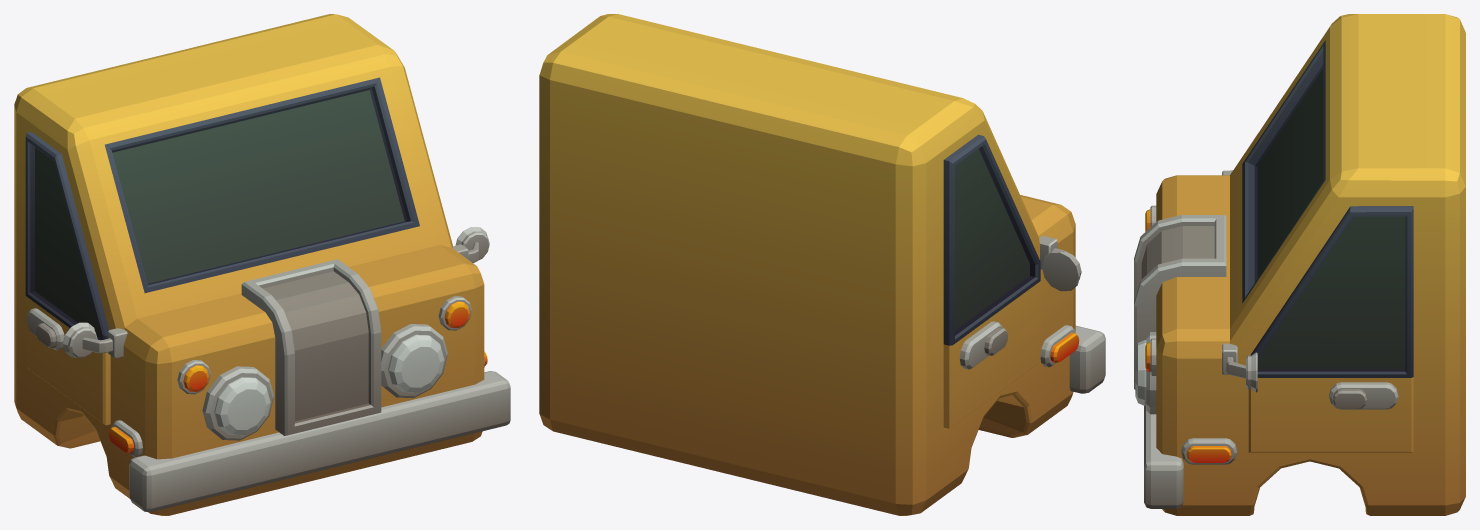
File: sp_build_prop_carfront_01.fbx
The picture shows the model from 3 angles, left to right: view 1: azimuth 30°, elevation 25°; view 2: azimuth 150°, elevation 25°; view 3: azimuth 270°, elevation 25°; orthographic projection. The views are drawn at different scales.
Visible parts, largest first — view 1: build_prop_carfront_01; view 2: build_prop_carfront_01; view 3: build_prop_carfront_01.
Boxes of the visible parts, x1=… form: build_prop_carfront_01: x1=14, y1=14, x2=510, y2=515; build_prop_carfront_01: x1=539, y1=14, x2=1105, y2=515; build_prop_carfront_01: x1=1134, y1=14, x2=1465, y2=515.
Bounding box in the file's own units: 283 × 212 × 183.
